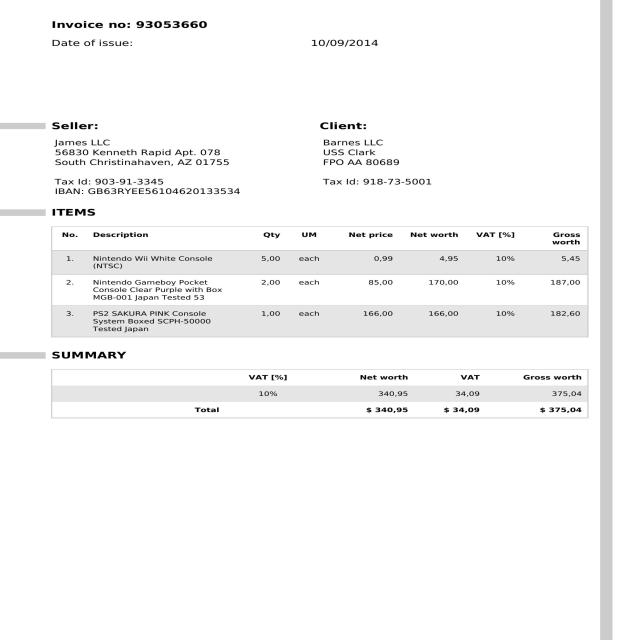customer_address: (319, 148, 413, 168)
customer_name: (321, 135, 386, 147)
invoice_date: (306, 37, 382, 49)
invoice_number: (134, 16, 222, 34)
invoice_subtotal: (350, 404, 416, 416)
invoice_total: (535, 404, 586, 416)
item_description: (87, 252, 225, 337)
item_quantity: (252, 253, 287, 329)
item_total_price: (418, 251, 466, 330)
item_unit_price: (358, 252, 397, 331)
supplier_address: (54, 147, 235, 169)
supplier_name: (53, 137, 118, 147)
tax_amount: (436, 403, 485, 415)
tax_rate: (253, 386, 284, 400)
